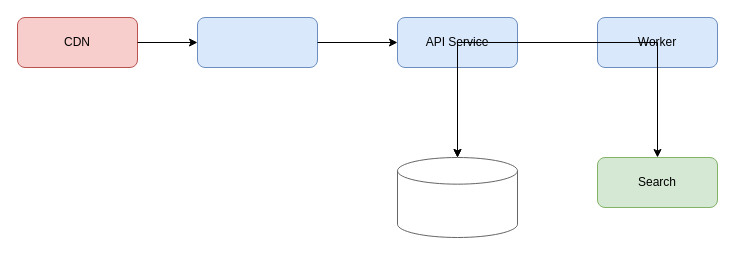
Some shapes in this 735 by 255 pixel diagram are drawn without their labels. Each missing label, with the centre of its shape:
Database: the point at 457,197
Web App: the point at 257,42
